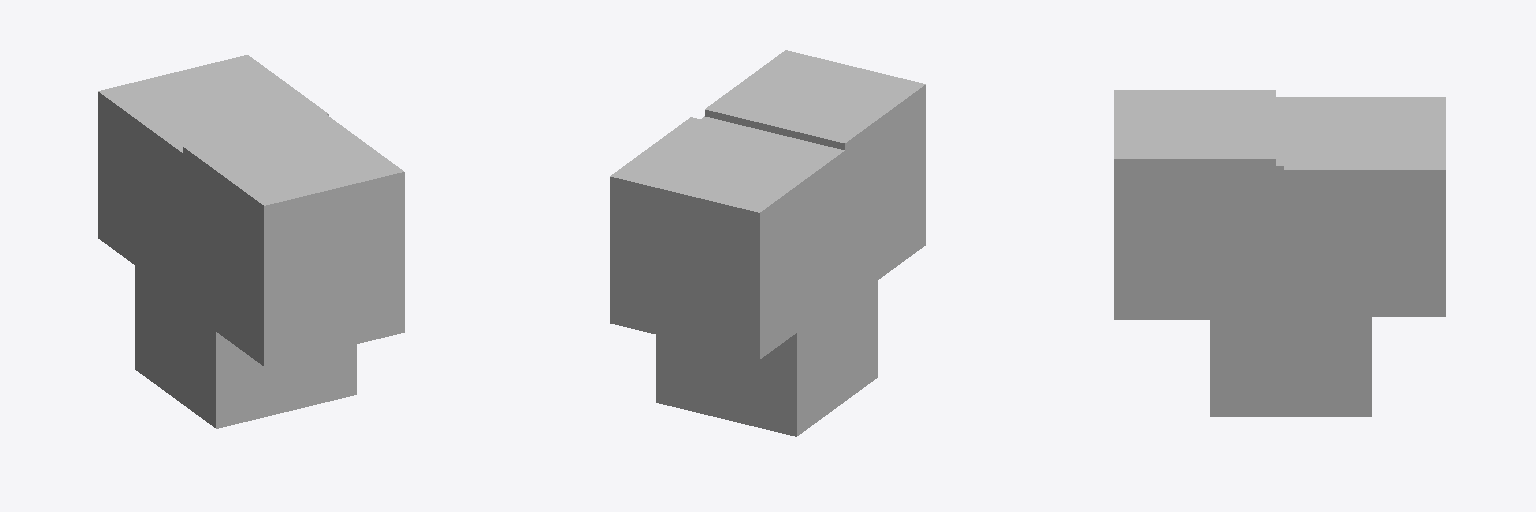
Rendered from Music1.obj.
3 views of the same model, side by side, from view 1: azimuth 30°, elevation 25°; view 2: azimuth 150°, elevation 25°; view 3: azimuth 270°, elevation 25° (orthographic).
Visible parts, largest first — view 1: Cube_Cube.001, Cube.002_Cube.004, Cube.001_Cube.002, Cube.004_Cube.006, Cube.003_Cube.005; view 2: Cube.003_Cube.005, Cube_Cube.001, Cube.002_Cube.004, Cube.004_Cube.006, Cube.001_Cube.002; view 3: Cube_Cube.001, Cube.003_Cube.005, Cube.002_Cube.004, Cube.001_Cube.002, Cube.004_Cube.006.
Boxes of the visible parts, box(x1,y1,x2,y2) form: Cube_Cube.001: box(183, 112, 404, 366); Cube.002_Cube.004: box(135, 266, 356, 428); Cube.001_Cube.002: box(134, 85, 313, 322); Cube.004_Cube.006: box(98, 57, 289, 263); Cube.003_Cube.005: box(117, 55, 328, 145); Cube.003_Cube.005: box(610, 117, 827, 356); Cube_Cube.001: box(705, 50, 925, 303); Cube.002_Cube.004: box(656, 281, 877, 436); Cube.004_Cube.006: box(620, 121, 840, 359); Cube.001_Cube.002: box(658, 116, 876, 324); Cube_Cube.001: box(1114, 90, 1275, 319); Cube.003_Cube.005: box(1284, 102, 1445, 316); Cube.002_Cube.004: box(1210, 270, 1371, 416); Cube.001_Cube.002: box(1211, 97, 1373, 269); Cube.004_Cube.006: box(1284, 97, 1445, 165).
Bounding box in the file's own units: 2.13 × 3.51 × 4.1.